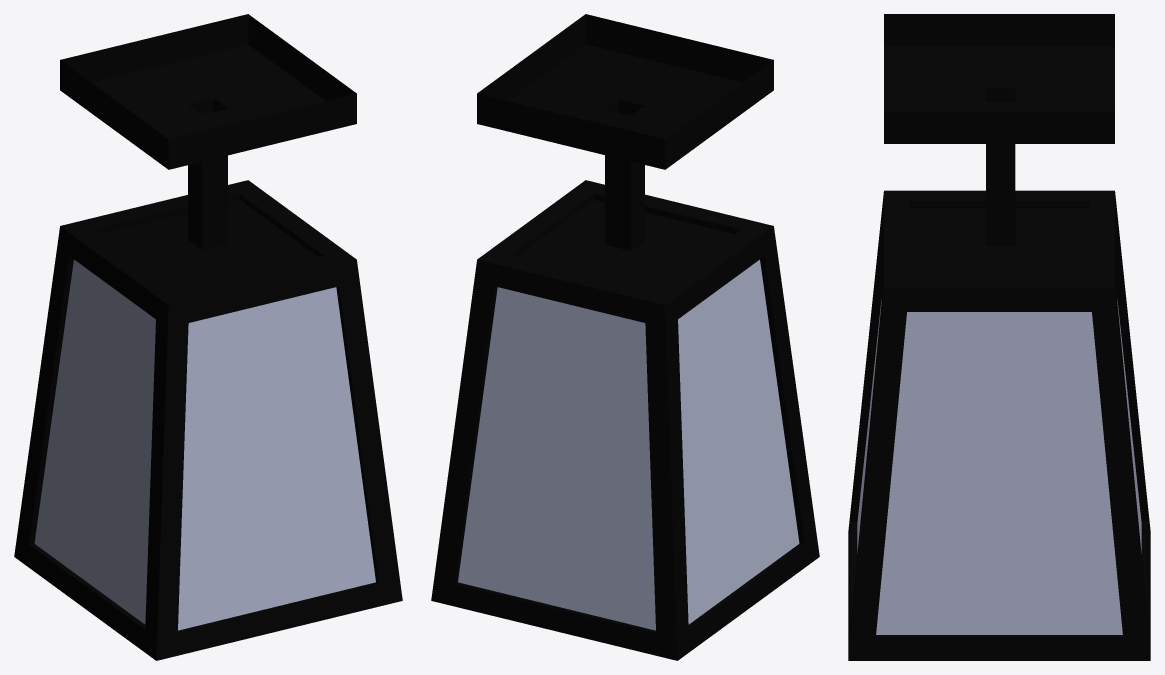
Rendered from SM_RoofLight_005.FBX.
3 views of the same model, side by side, from view 1: azimuth 30°, elevation 25°; view 2: azimuth 150°, elevation 25°; view 3: azimuth 270°, elevation 25° (orthographic). The views are drawn at different scales.
Visible parts, largest first — view 1: SM_RoofLight_005; view 2: SM_RoofLight_005; view 3: SM_RoofLight_005.
Boxes of the visible parts, x1,y1,x2,y2 form: SM_RoofLight_005: (14, 14, 402, 660); SM_RoofLight_005: (431, 14, 819, 660); SM_RoofLight_005: (848, 14, 1150, 660).
Size of the model in its own units: 22.11 by 22.1 by 43.05.
